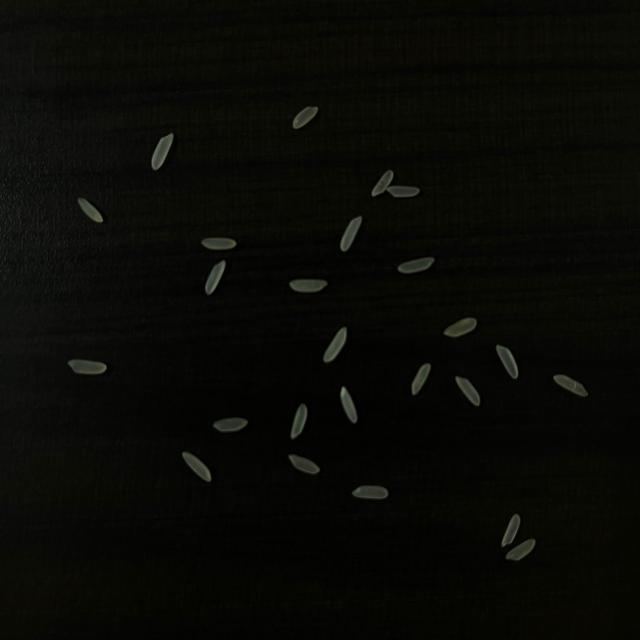Full: (182, 451, 212, 482), (151, 133, 174, 171), (323, 327, 347, 362), (553, 374, 588, 397), (340, 216, 362, 252), (496, 344, 518, 378), (456, 375, 480, 406), (205, 260, 226, 295), (505, 538, 536, 560), (78, 197, 104, 223), (288, 454, 321, 474), (340, 387, 358, 423), (411, 363, 431, 395), (66, 359, 106, 375), (444, 318, 477, 337), (371, 170, 394, 197), (502, 513, 520, 547), (291, 404, 308, 439), (398, 258, 434, 274), (212, 417, 249, 432), (293, 107, 318, 129), (289, 279, 328, 293), (352, 485, 388, 499), (202, 237, 236, 250), (386, 186, 419, 198)
